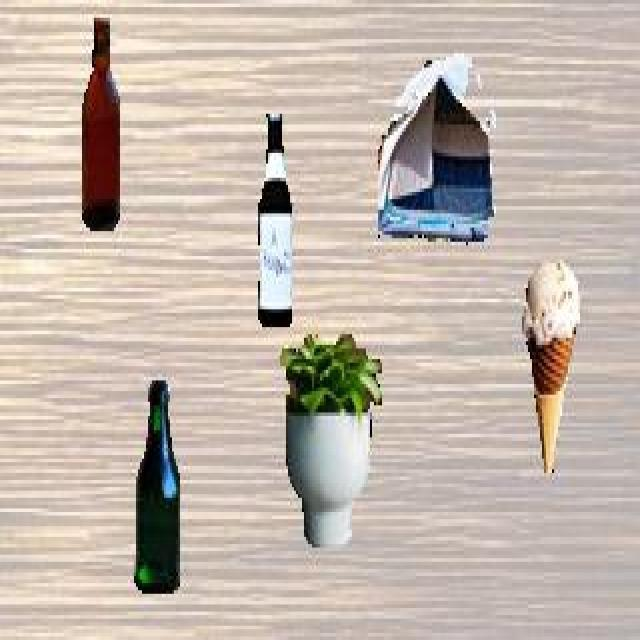Other Objects: (280, 330, 384, 550), (134, 378, 182, 596), (80, 14, 121, 232), (256, 111, 294, 330)
